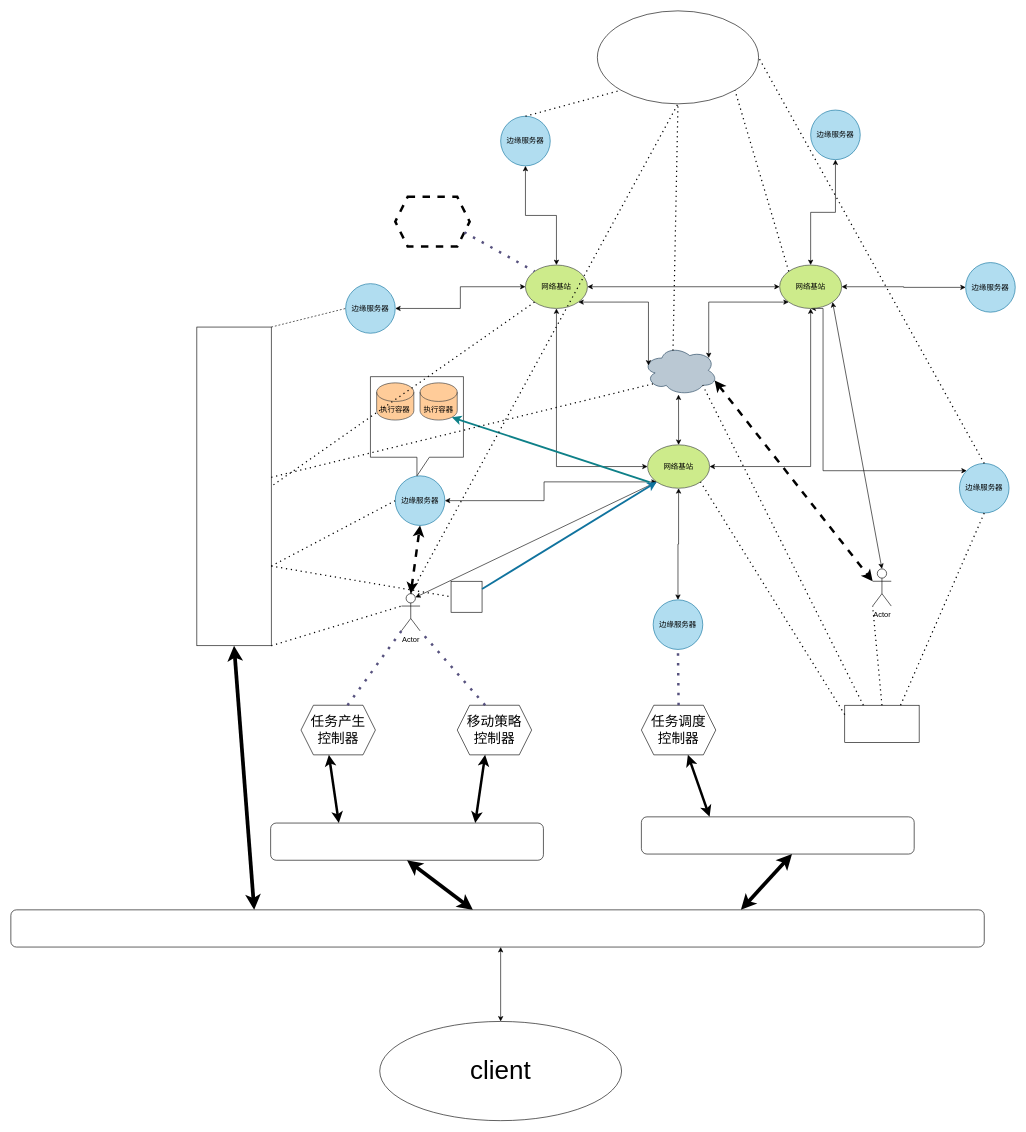
This 1026x1132 diagram has some shape labels left out. The centre of each missing label's shape, as x and y in pixels:
World API 层: point (497, 928)
云服务器: point (680, 370)
任务: point (466, 596)
全局时间控制器: point (678, 57)
全局状态感知器: point (233, 486)
全局配置器: point (881, 723)
可移动目标控制器API层: point (406, 841)
路由策略 控制器: point (432, 221)
边缘服务器控制器API层: point (777, 835)
